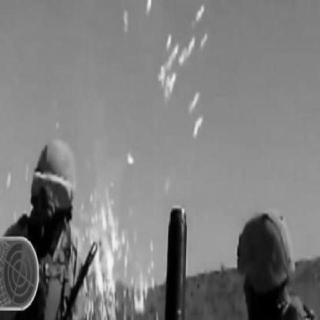Fire: (77, 186, 149, 316), (157, 20, 207, 93), (186, 81, 206, 139)
